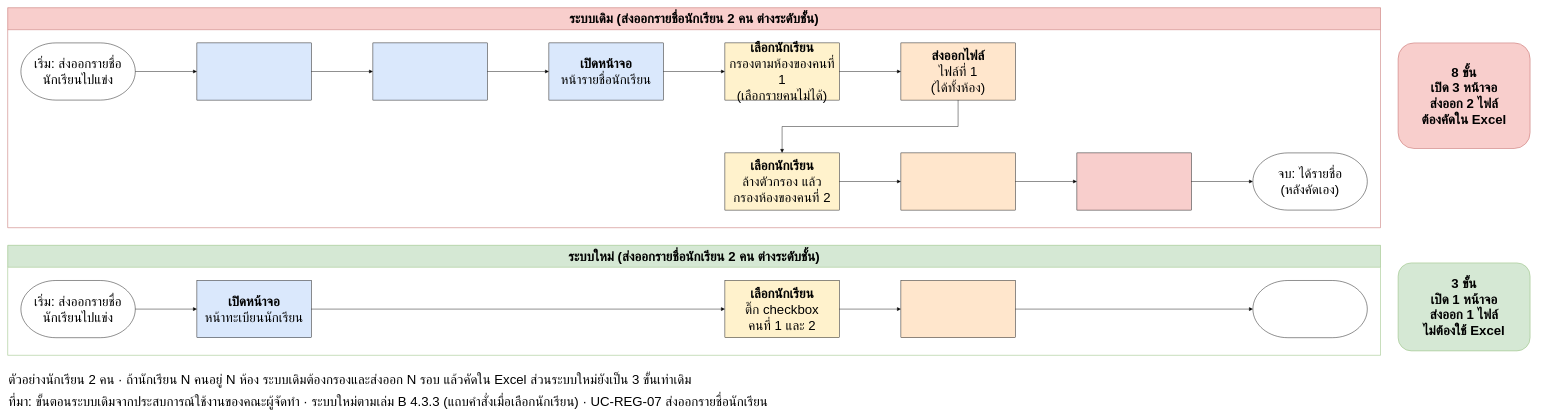
Image size: 1547x420. Some labels were removed from this diagram. The centre of each missing label's shape, as x and y in pixels:
"คัดรายชื่อใน Excel เปิด 2 ไฟล์ ดึงเฉพาะ คนที่ต้องการเอง" goes at [1133,181].
"จบ: ได้รายชื่อตรงตาม ต้องการ ไม่ต้องเปิด Excel" goes at [1309,309].
"ส่งออกไฟล์ ไฟล์ที่ 2 (ได้ทั้งห้อง)" goes at [957,181].
"ส่งออกไฟล์ ไฟล์เดียว เฉพาะคนที่เลือก" goes at [957,309].
"เปิดหน้าจอ หน้าข้อมูลนักเรียน (ดูรายชื่อทั้งหมด)" goes at [253,71].
"เปิดหน้าจอ หน้ารายงานนักเรียน" goes at [429,71].
